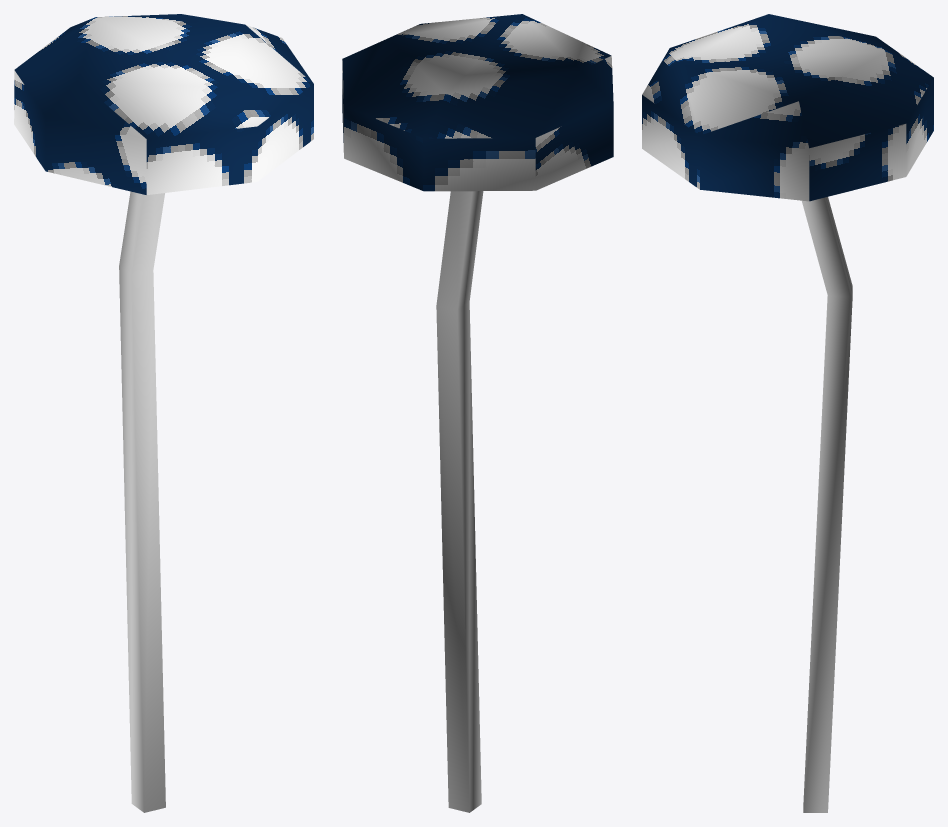
The model's file is BitDMK Battle.obj.
3 renders of one model, left to right at view 1: azimuth 30°, elevation 25°; view 2: azimuth 150°, elevation 25°; view 3: azimuth 270°, elevation 25°, orthographic. The views are drawn at different scales.
Parts seen in each view (by area): view 1: BitDMK_Battle; view 2: BitDMK_Battle; view 3: BitDMK_Battle.
Part boxes in pixels (x1,y1,x2,y2): BitDMK_Battle: (14,14,313,812); BitDMK_Battle: (342,14,613,812); BitDMK_Battle: (642,14,933,812).
Size of the model in its own units: 60.29 by 171 by 60.29.
